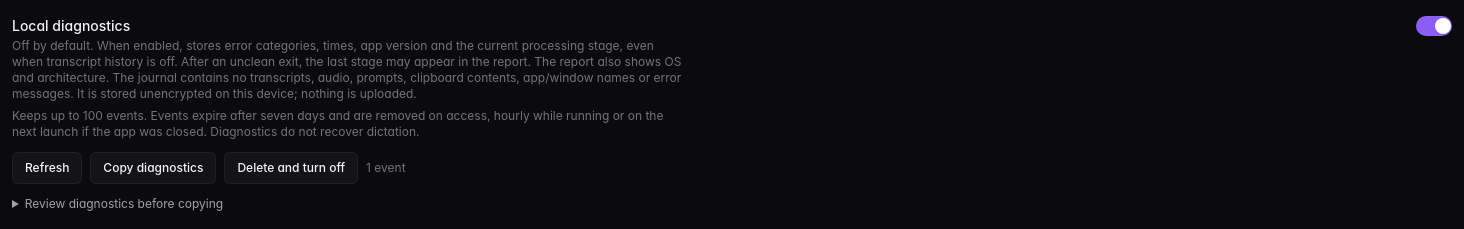
Test: local diagnostics settings › surfaces failed deletion and permits a retry without claiming success
Click the button "Delete and turn off" at (291, 168), box x1=224 y1=152 x2=358 y2=184
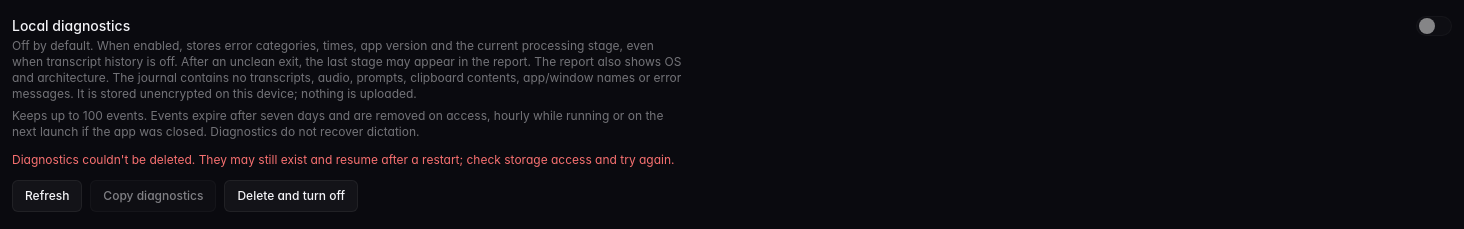
Expected: the message shows "may still exist", x1=12 y1=152 x2=674 y2=167
Expected: the switch named "Store local diagnostics" is disabled, x1=1416 y1=16 x2=1452 y2=36
Click the button "Delete and turn off" at (291, 196), box x1=224 y1=180 x2=358 y2=212
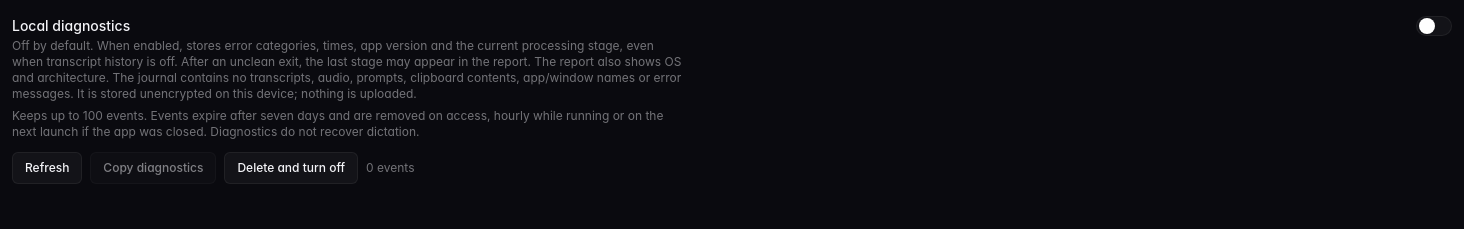
Expected: the message is gone
